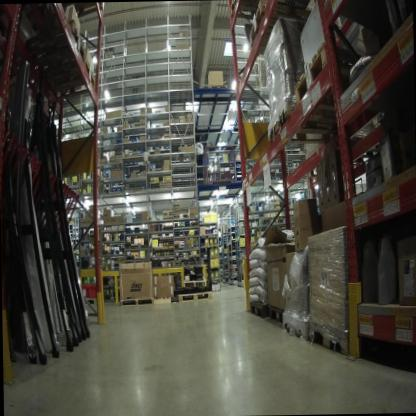pallet: (30, 57, 156, 308), (268, 93, 373, 153), (292, 38, 372, 113), (247, 1, 330, 53), (15, 14, 91, 66), (308, 316, 357, 357), (279, 310, 310, 348), (226, 0, 268, 25), (261, 301, 286, 331), (176, 288, 214, 302), (248, 298, 267, 322), (154, 293, 175, 306)
